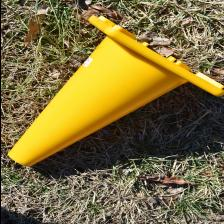cone: (6, 14, 224, 167)
